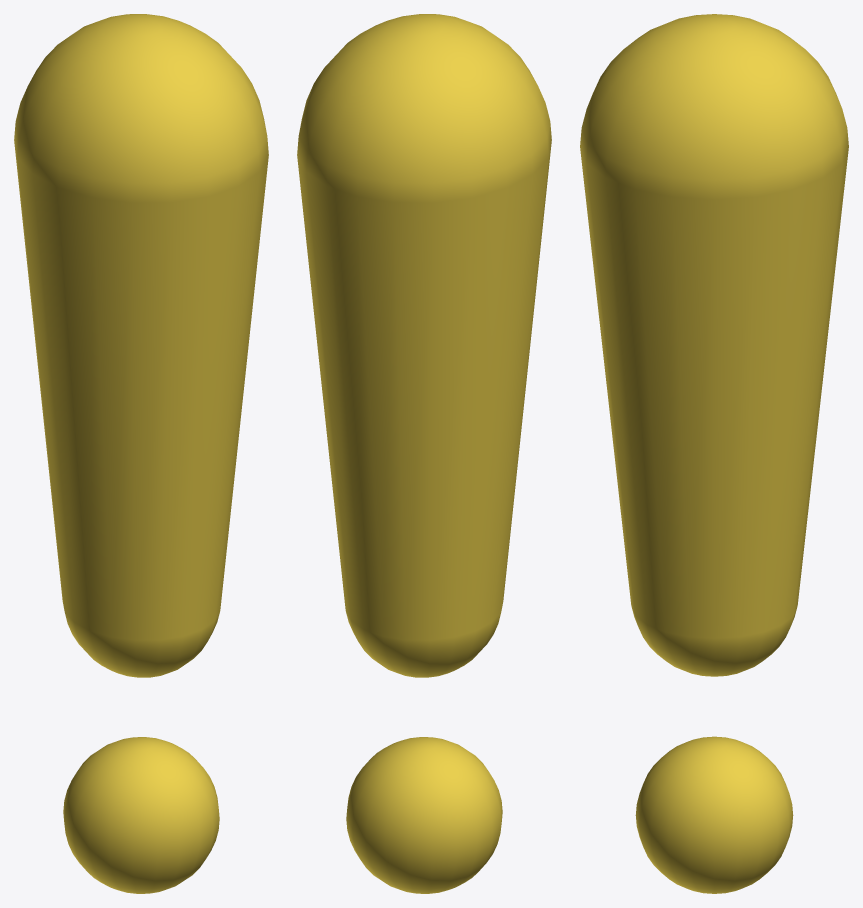
Rendered from tanhao.fbx.
The picture shows the model from 3 angles, left to right: view 1: azimuth 30°, elevation 25°; view 2: azimuth 150°, elevation 25°; view 3: azimuth 270°, elevation 25°; orthographic projection.
Visible parts, largest first — view 1: pSphere1, pSphere2; view 2: pSphere1, pSphere2; view 3: pSphere1, pSphere2.
Part boxes in pixels (bbox=[...]): pSphere1: bbox=[14, 14, 268, 677]; pSphere2: bbox=[63, 737, 219, 893]; pSphere1: bbox=[297, 14, 551, 677]; pSphere2: bbox=[346, 737, 502, 893]; pSphere1: bbox=[580, 14, 848, 676]; pSphere2: bbox=[635, 736, 793, 893].
Size of the model in its own units: 3.19 by 12.08 by 3.42.
